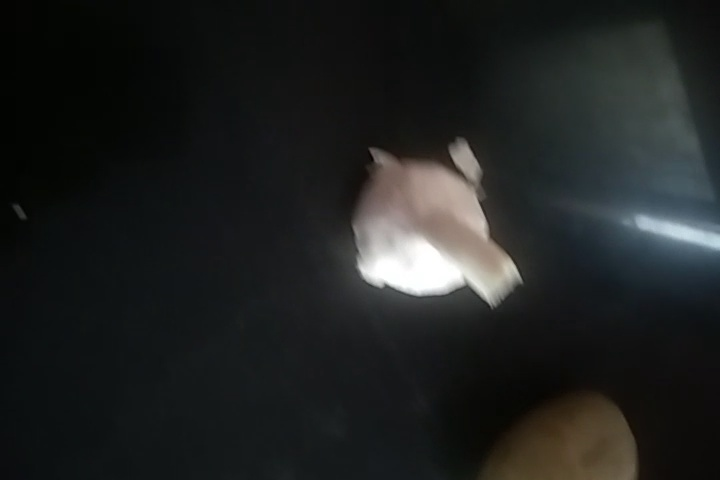garlic: (350, 146, 524, 317)
potato: (491, 396, 650, 480)
